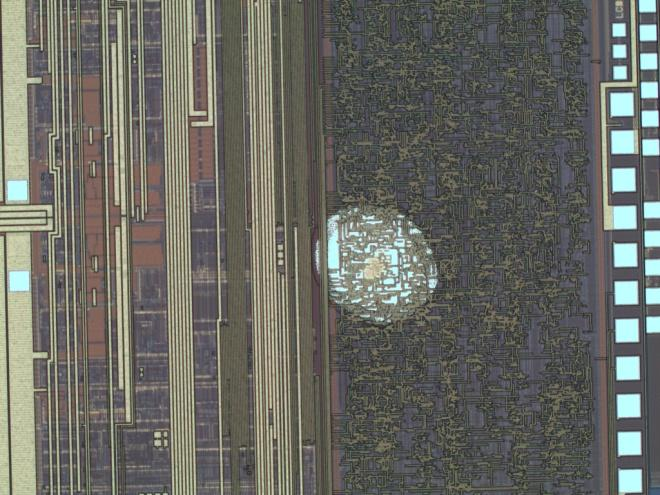BLOCK ETCH: (309, 198, 443, 330)
